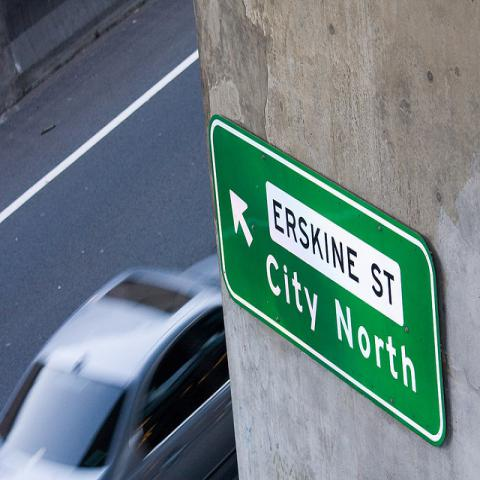car: (1, 257, 238, 472)
